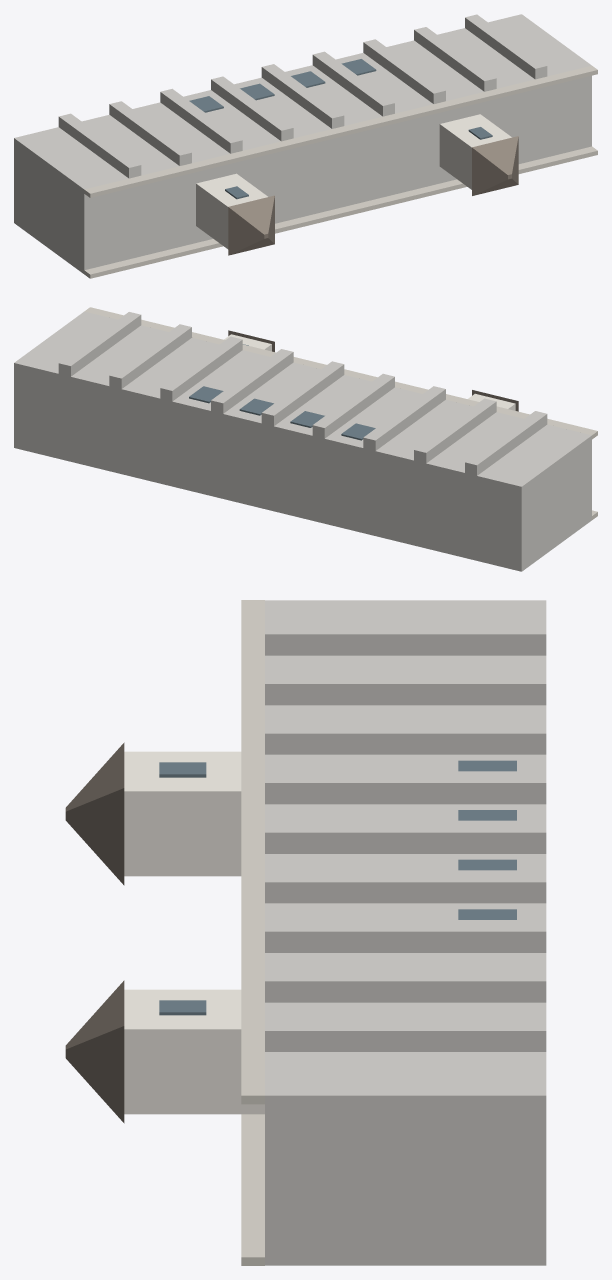
Rendered from r-11-brno-dam-wall.glb.
The picture shows the model from 3 angles, top to bottom: view 1: azimuth 30°, elevation 25°; view 2: azimuth 150°, elevation 25°; view 3: azimuth 270°, elevation 25°; orthographic projection. The views are drawn at different scales.
Visible parts, largest first — view 1: dam-body, crest-parapet, valve-towers, tower-roofs, windows-and-sluices; view 2: dam-body, crest-parapet, windows-and-sluices, valve-towers, tower-roofs; view 3: dam-body, valve-towers, crest-parapet, tower-roofs, windows-and-sluices.
Boxes of the visible parts, x1,y1,x2,y2 form: dam-body: (14, 14, 591, 273); crest-parapet: (84, 65, 597, 278); valve-towers: (196, 114, 511, 249); tower-roofs: (228, 136, 518, 255); windows-and-sluices: (189, 59, 492, 199); dam-body: (14, 311, 591, 571); crest-parapet: (84, 307, 597, 519); windows-and-sluices: (189, 344, 375, 440); valve-towers: (224, 334, 515, 410); tower-roofs: (228, 330, 518, 411); dam-body: (265, 600, 546, 1265); valve-towers: (124, 751, 264, 1114); crest-parapet: (241, 600, 264, 1265); tower-roofs: (65, 742, 124, 1123); windows-and-sluices: (159, 760, 516, 1015).
Bounding box in the file's own units: 50000 × 8999 × 20500.
